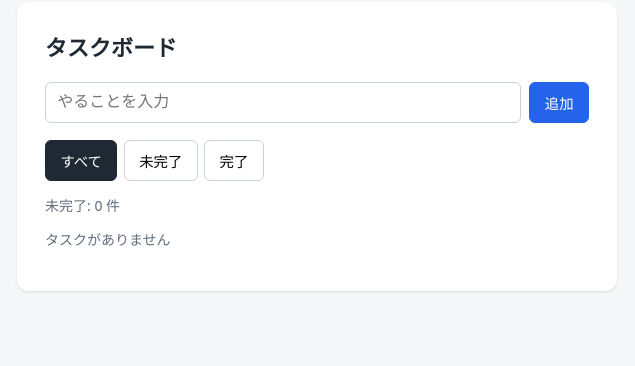
Test: App › タイトルの編集 › 空文字で保存しようとするとエラーになり、元のタイトルが保たれる
Type "消えてはいけない" into the field named "タスク名" at (283, 102), box [45,82,521,123]
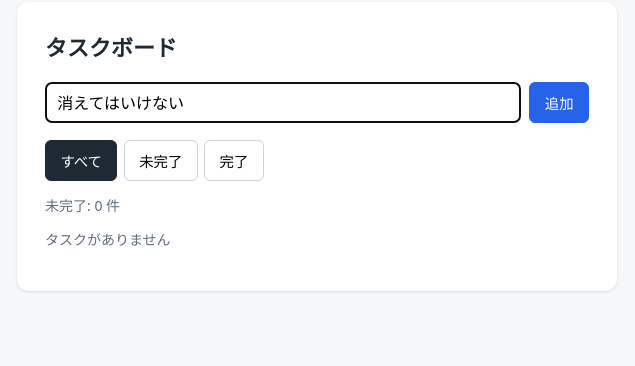
Click the button "追加" at (559, 102), box [529,82,589,123]
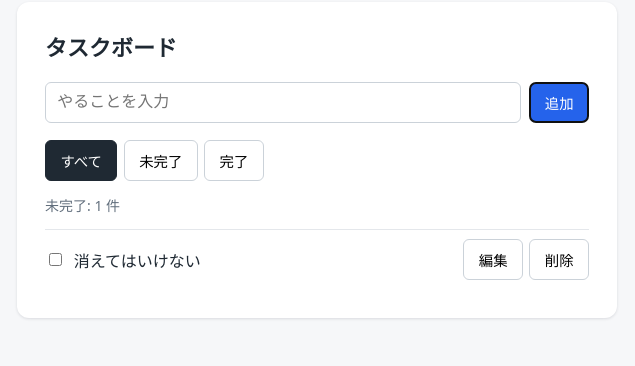
Click the button "編集" at (493, 260), box [464,239,523,280]
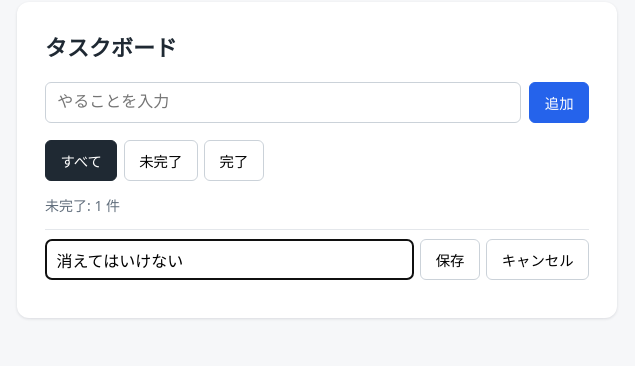
Clear the field named "タスク名を編集" at (229, 260), box [45,239,414,280]
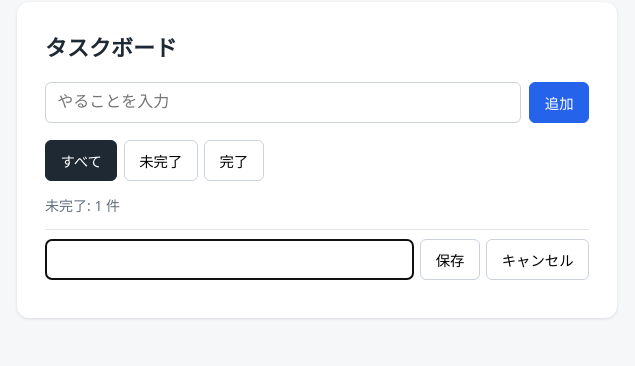
Click the button "保存" at (450, 260), box [420,239,480,280]
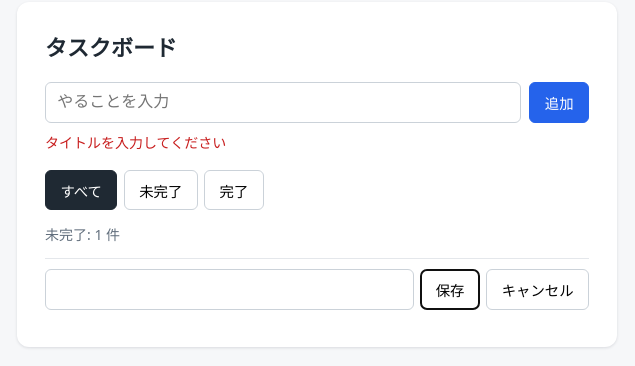
Check: the message reads "タイトルを入力してください", box [45,133,226,152]
